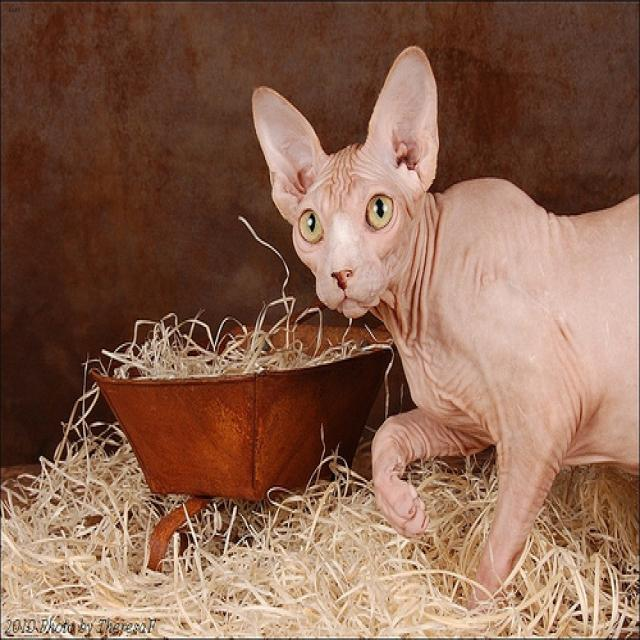Sphynx: (251, 45, 436, 315)
